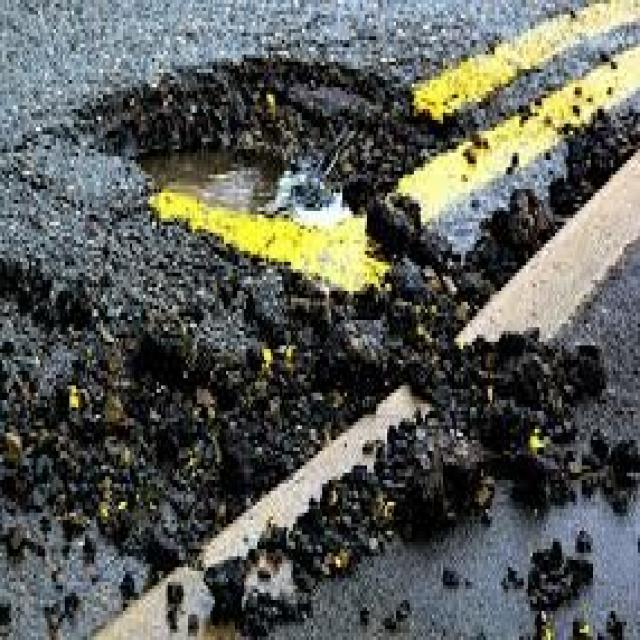Pothole: (34, 26, 443, 288)
